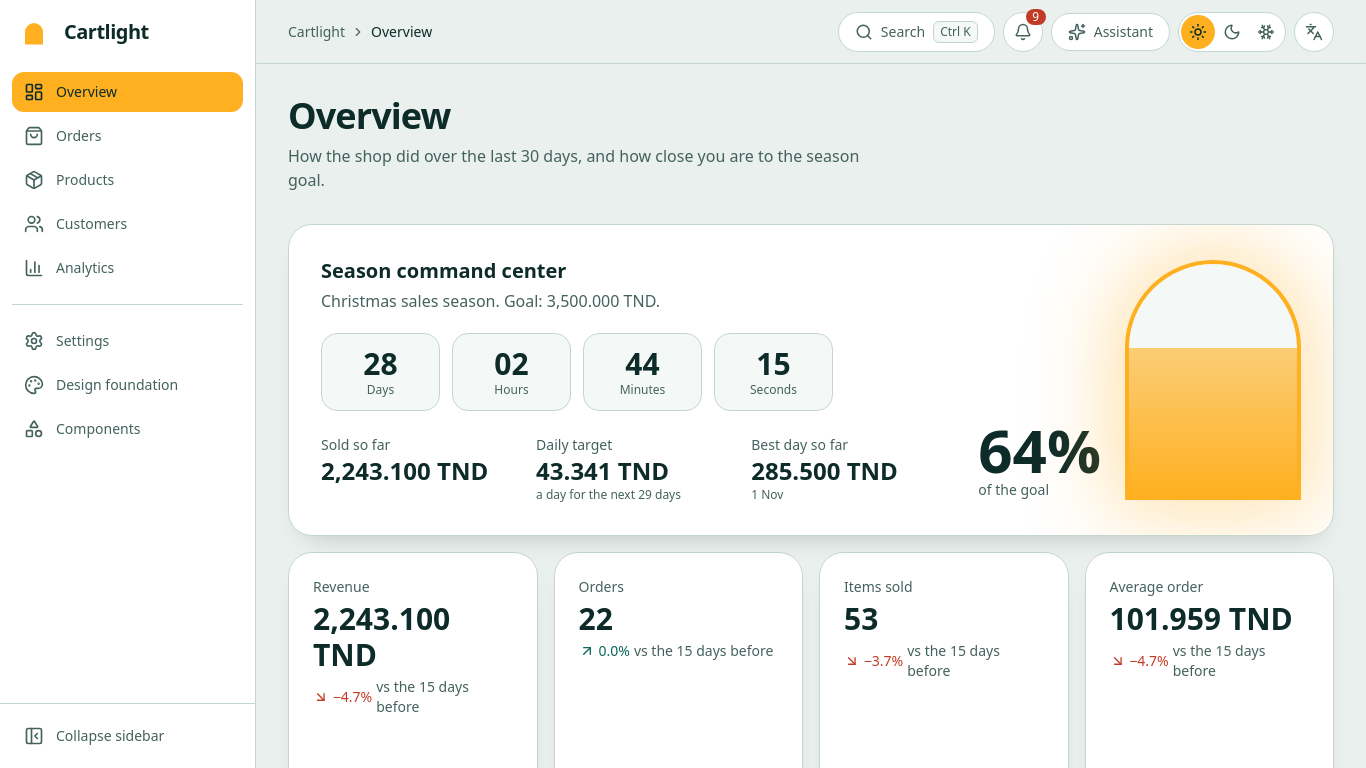
Test: app shell › collapses and expands the sidebar
Click the button "Collapse sidebar" at (128, 736), box [12,716,243,756]
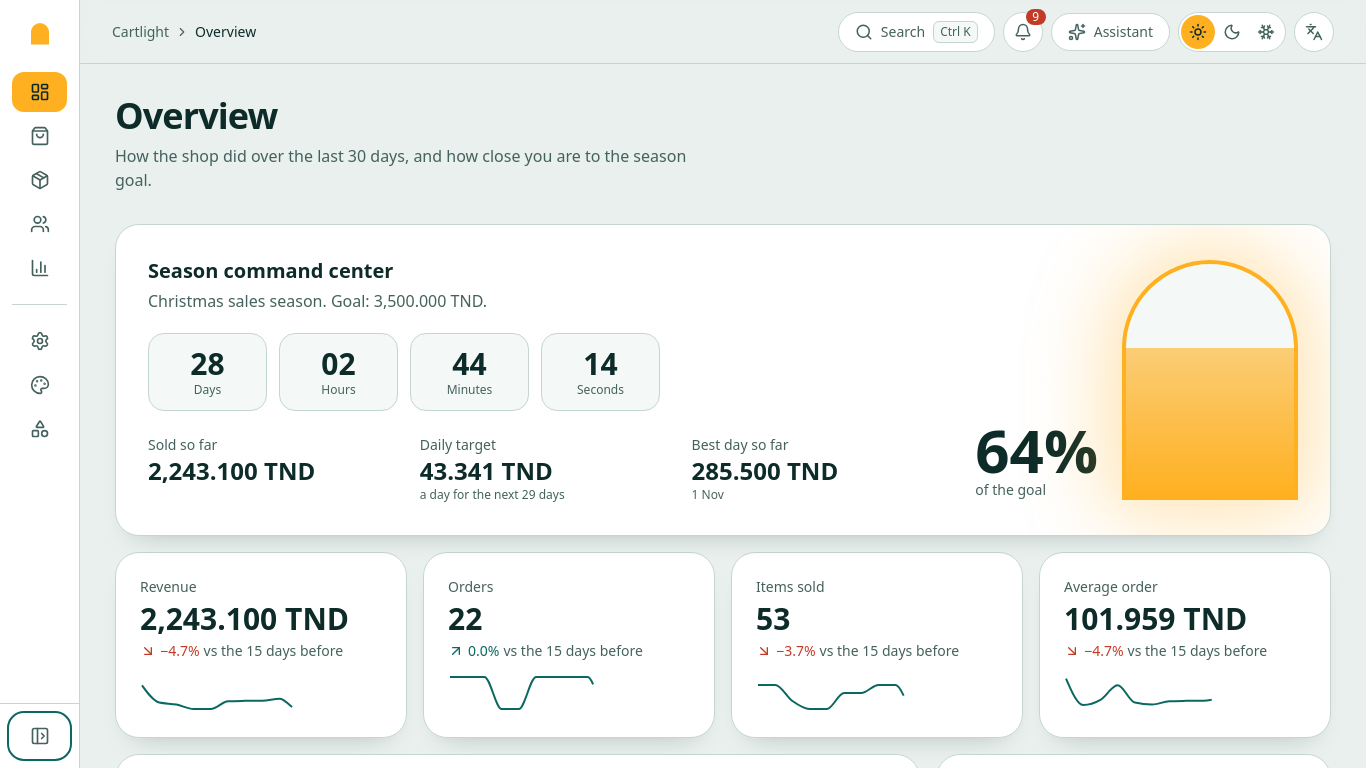
Expected: the button named "Collapse sidebar" is collapsed, [12,716,67,756]
